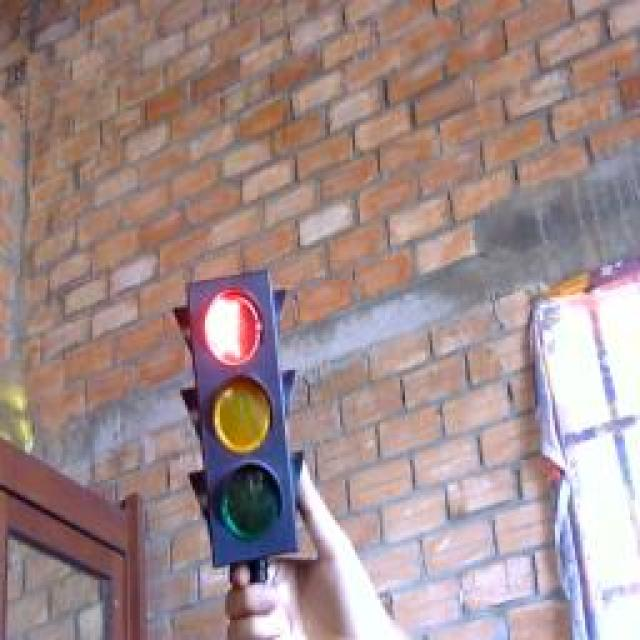-: (191, 280, 273, 377)
